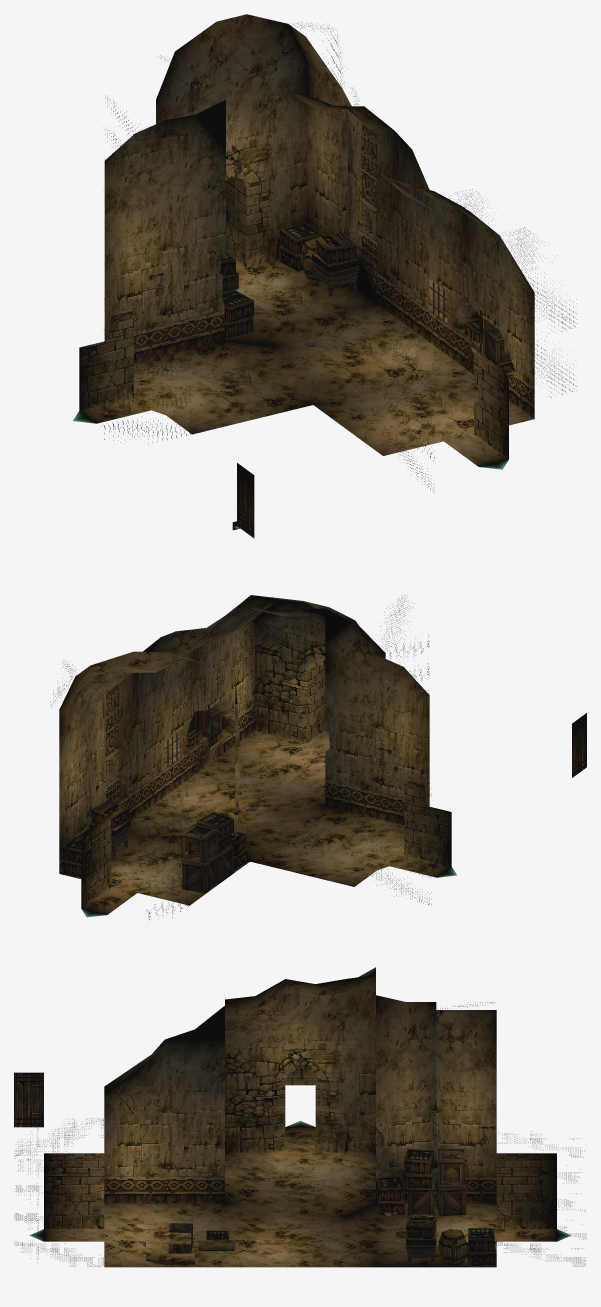
Rendered from MAP017.gltf.
The picture shows the model from 3 angles, top to bottom: view 1: azimuth 30°, elevation 25°; view 2: azimuth 150°, elevation 25°; view 3: azimuth 270°, elevation 25°; orthographic projection. The views are drawn at different scales.
Bounding box in the file's own units: 179 × 104 × 243.
Materials: 102 (102 with a texture image).
